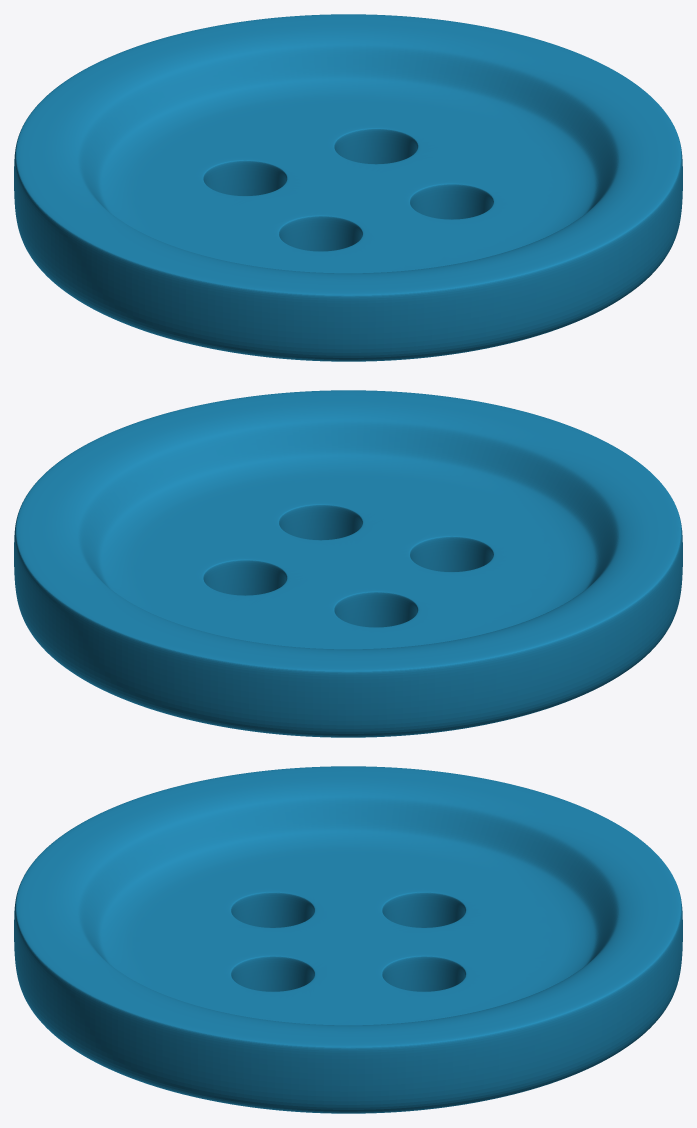
File: button.fbx
The picture shows the model from 3 angles, top to bottom: view 1: azimuth 30°, elevation 25°; view 2: azimuth 150°, elevation 25°; view 3: azimuth 270°, elevation 25°; orthographic projection.
Parts seen in each view (by area): view 1: finished button; view 2: finished button; view 3: finished button.
Boxes of the visible parts, x1=… form: finished button: x1=14, y1=14, x2=682, y2=361; finished button: x1=14, y1=390, x2=682, y2=737; finished button: x1=14, y1=766, x2=682, y2=1113.
Bounding box in the file's own units: 266 × 40.23 × 266.
